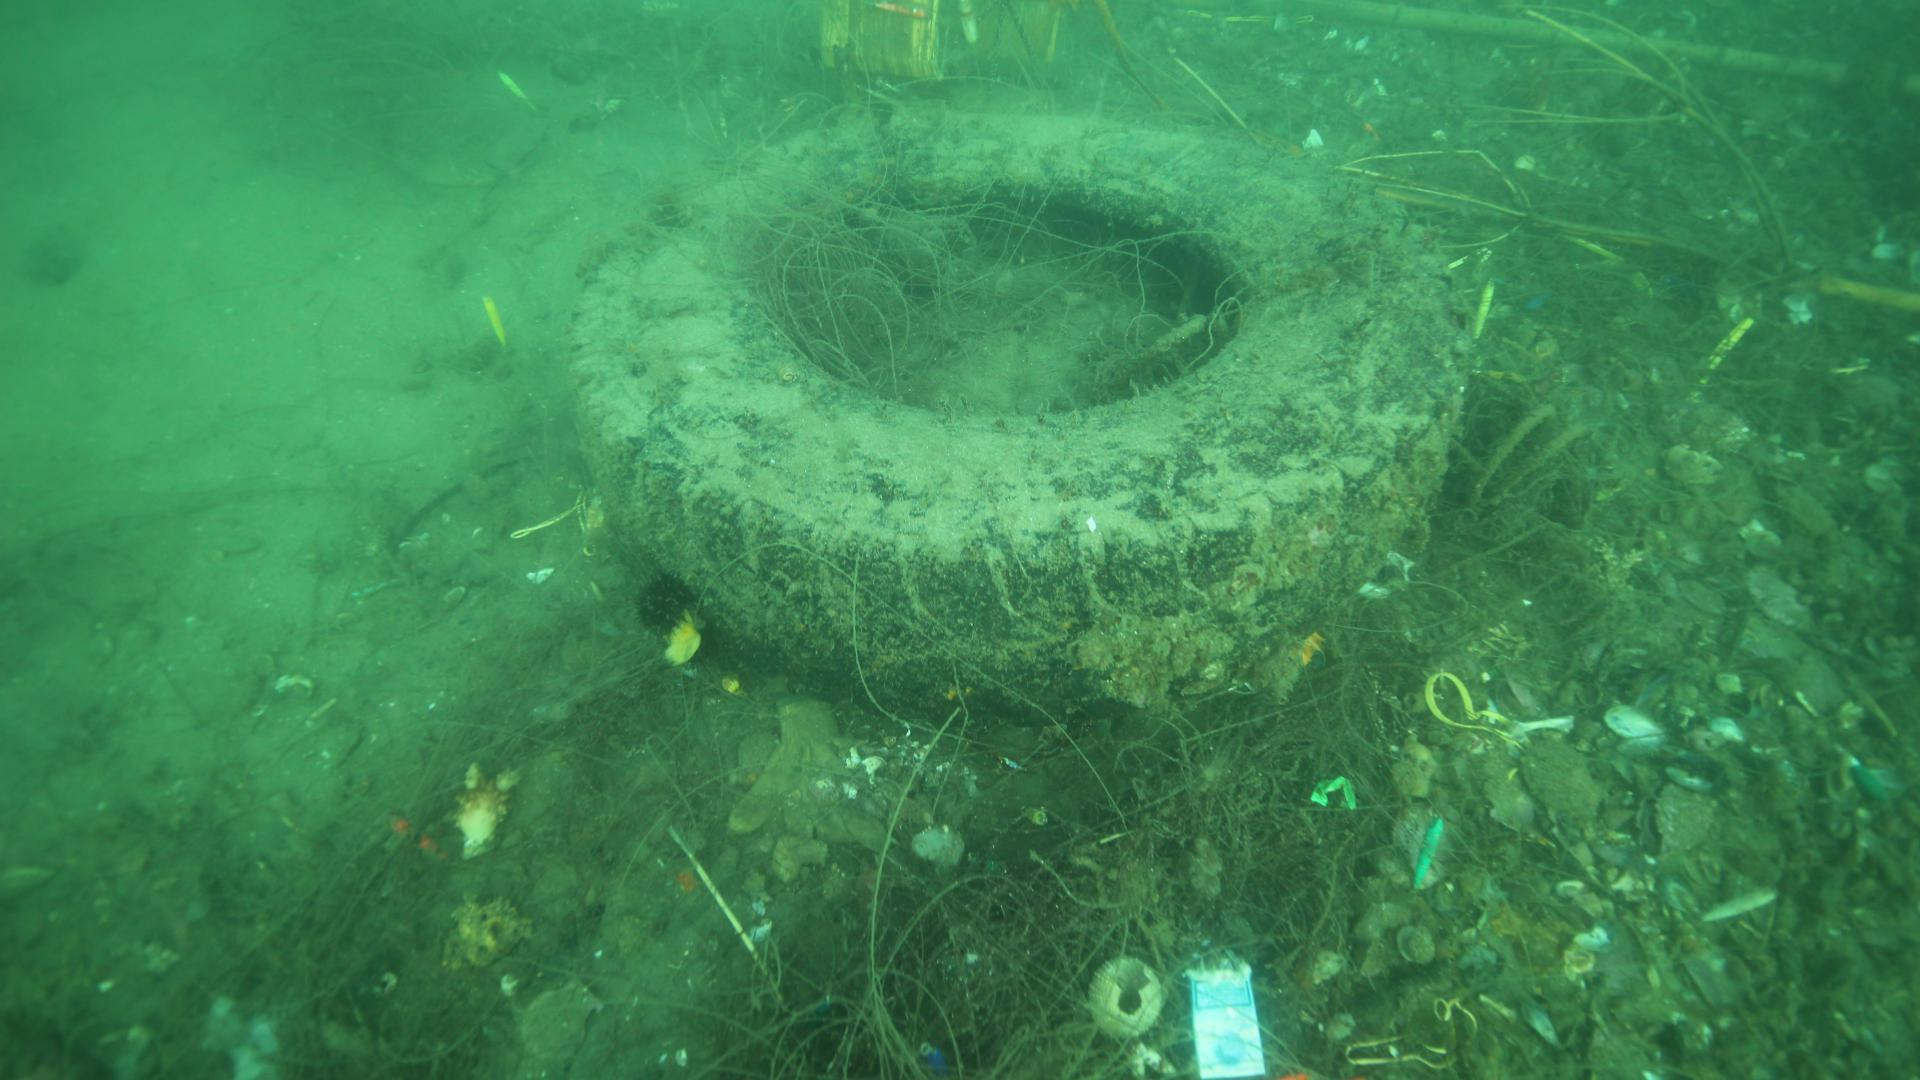tire: (556, 102, 1497, 708)
